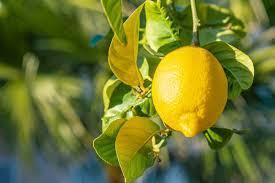lemon: (152, 46, 228, 137)
